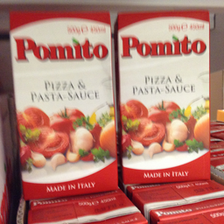tomato_sauce: (8, 8, 119, 202), (115, 9, 214, 186)
